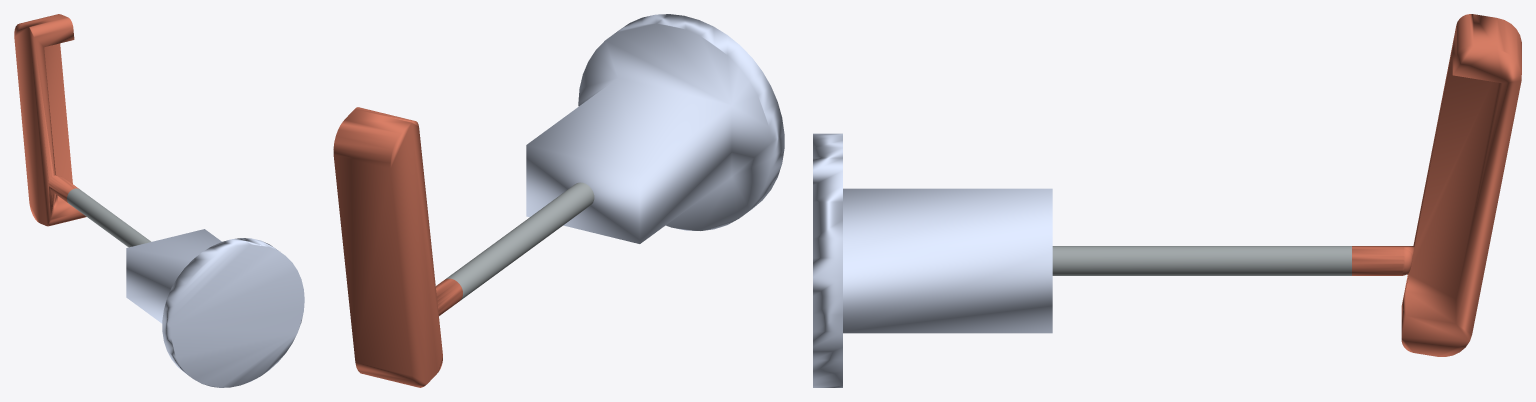
File: WAMGolf.obj
3 views of the same model, side by side, from view 1: azimuth 30°, elevation 25°; view 2: azimuth 150°, elevation 25°; view 3: azimuth 270°, elevation 25° (orthographic). The views are drawn at different scales.
Size of the model in its own units: 0.0849 by 0.1308 by 0.2368.
